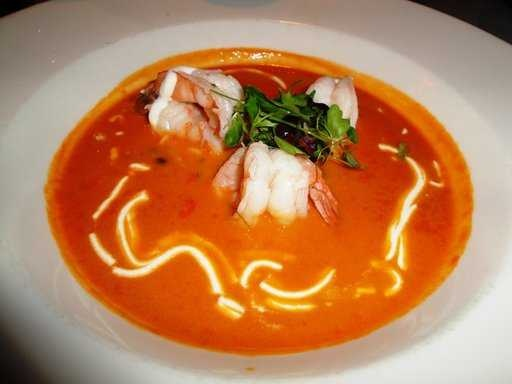soup: (61, 43, 445, 337)
